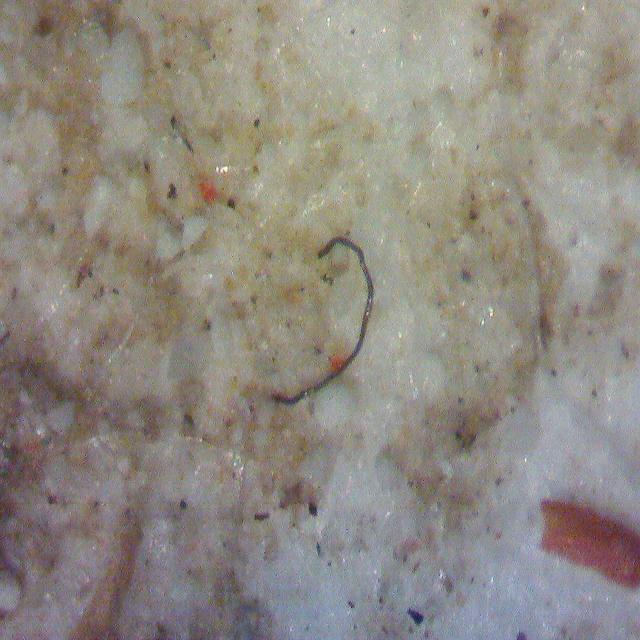microplastic: (272, 238, 373, 404)
